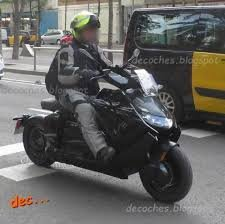motor: (19, 66, 202, 205)
